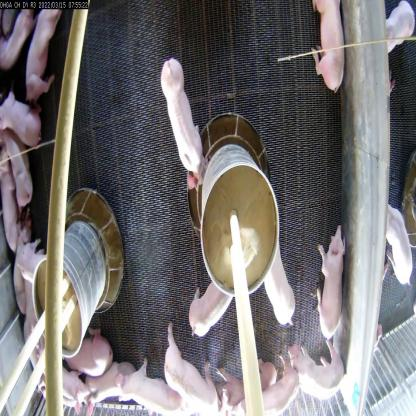Pig: (158, 52, 202, 204), (163, 328, 219, 415), (255, 230, 296, 334), (289, 336, 344, 404), (306, 0, 346, 93), (17, 5, 62, 86), (218, 360, 278, 416), (0, 155, 28, 264), (323, 227, 348, 349), (94, 363, 150, 416), (255, 357, 304, 415), (131, 372, 191, 416), (73, 333, 116, 394), (190, 277, 227, 343), (0, 86, 37, 143)
